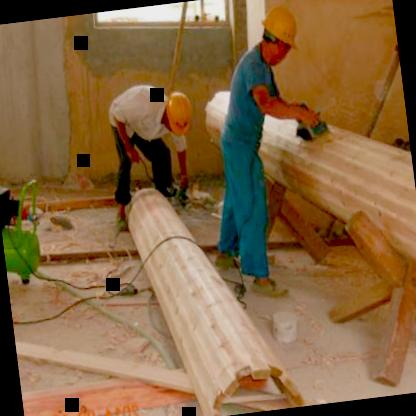helmet: (250, 2, 304, 70), (154, 86, 200, 142)
